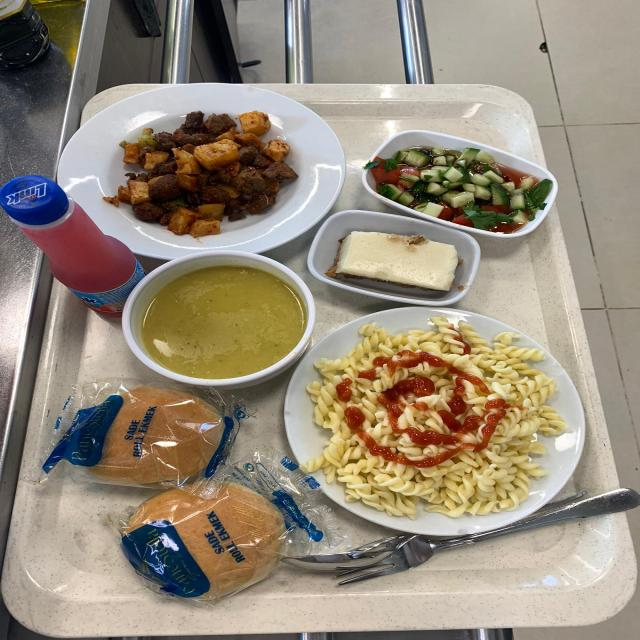ana_yemek: (289, 315, 563, 547), (83, 90, 312, 246)
corba: (132, 262, 292, 393)
yan_yemek: (383, 134, 541, 244), (310, 225, 478, 301)
